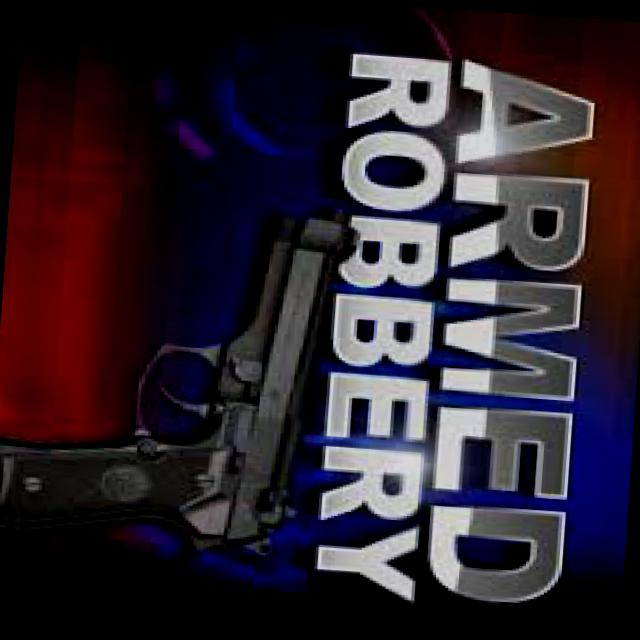handgun: (0, 180, 379, 572)
